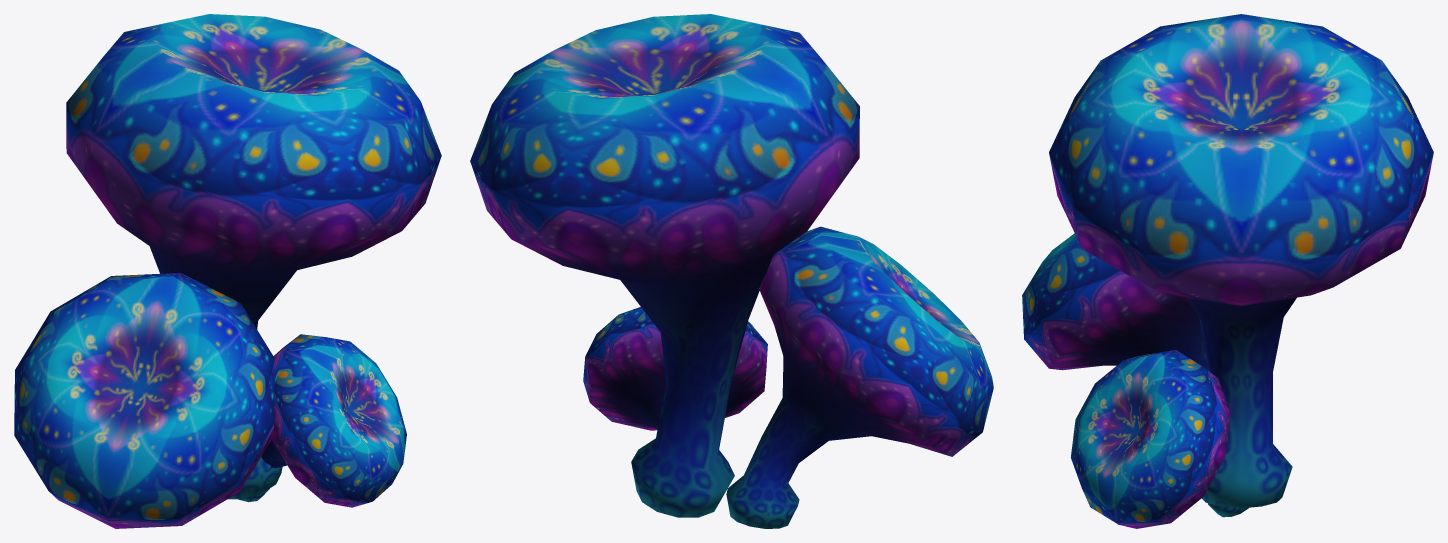
The model's file is Mushroom_06d.FBX.
3 views of the same model, side by side, from view 1: azimuth 30°, elevation 25°; view 2: azimuth 150°, elevation 25°; view 3: azimuth 270°, elevation 25° (orthographic). The views are drawn at different scales.
Visible parts, largest first — view 1: Mushroom_06d; view 2: Mushroom_06d; view 3: Mushroom_06d.
Part boxes in pixels (x1,y1,x2,y2): Mushroom_06d: (14,14,441,528); Mushroom_06d: (470,14,993,528); Mushroom_06d: (1022,14,1433,528).
Size of the model in its own units: 142 by 144 by 118.
